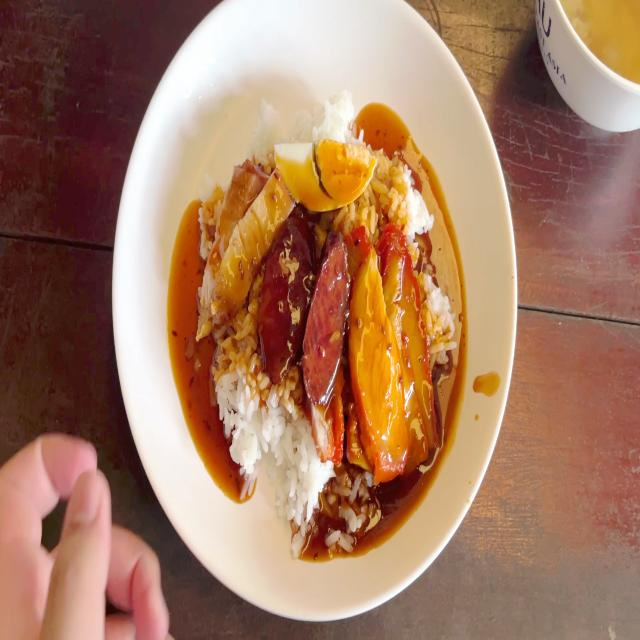boiled_egg: (272, 139, 379, 209)
chainese_sausage: (273, 218, 347, 381), (260, 212, 311, 362), (303, 236, 347, 386)
crispy_pork: (200, 165, 288, 336)
red_pork: (352, 234, 433, 452)
red_pork_and_crispy_pork: (201, 96, 449, 548)
rice: (254, 387, 319, 520), (210, 320, 258, 476), (262, 92, 352, 135)
